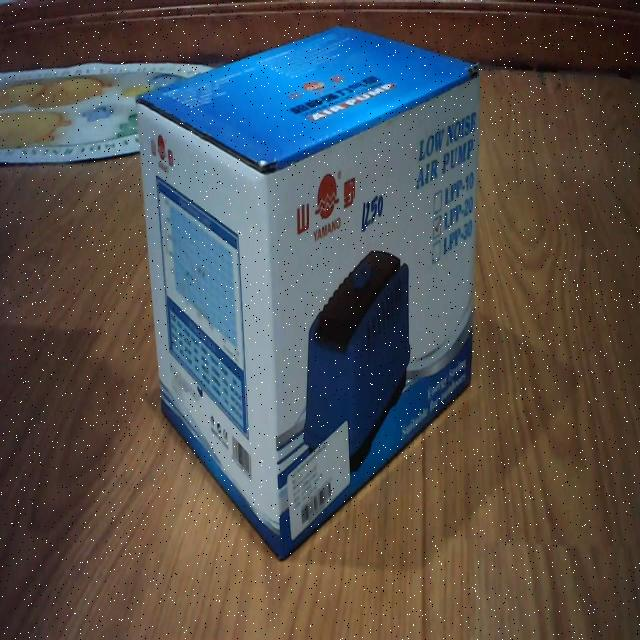YAMANO_LPP_20: (135, 15, 484, 567)
